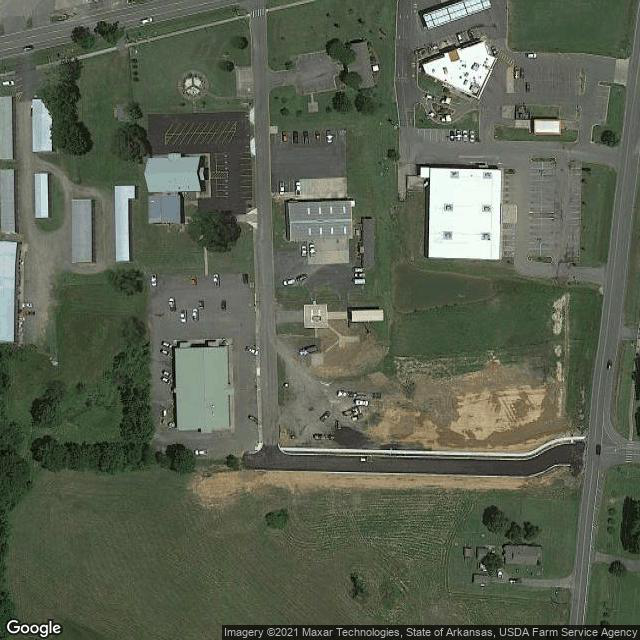Helipad: (301, 302, 330, 329)
